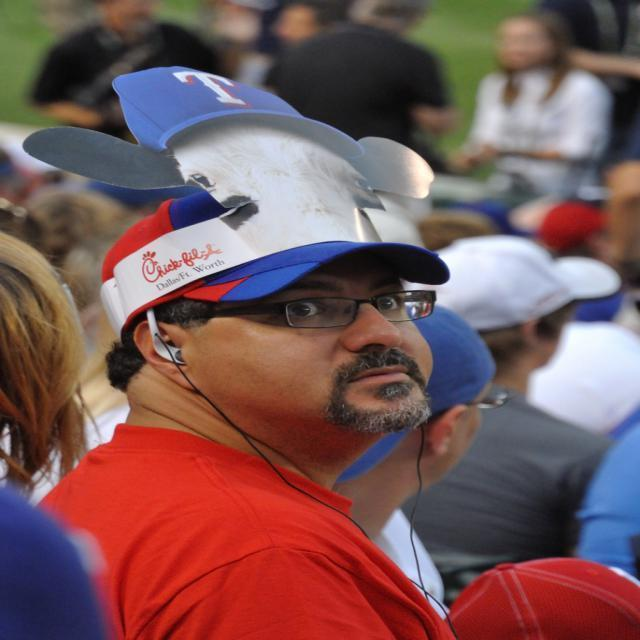closed-mouth: (349, 367, 414, 386)
